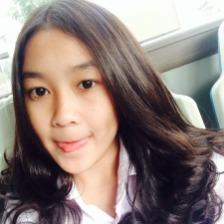Non hijab: (0, 3, 219, 223)
